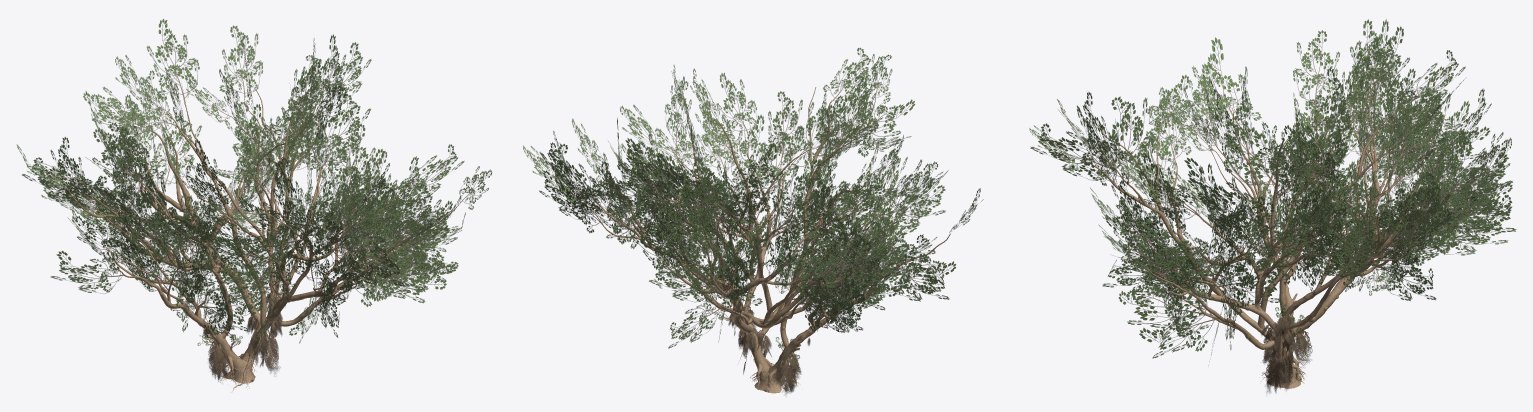
Rendered from tree.glb.
3 views of the same model, side by side, from view 1: azimuth 30°, elevation 25°; view 2: azimuth 150°, elevation 25°; view 3: azimuth 270°, elevation 25° (orthographic). The views are drawn at different scales.
Visible parts, largest first — view 1: Benjamin_S04; view 2: Benjamin_S04; view 3: Benjamin_S04.
Boxes of the visible parts, x1=… form: Benjamin_S04: x1=16, y1=19, x2=492, y2=391; Benjamin_S04: x1=523, y1=47, x2=983, y2=394; Benjamin_S04: x1=1029, y1=19, x2=1516, y2=392.
Size of the model in its own units: 0.8054 by 0.5995 by 0.8071.
Materials: 5 (5 with a texture image).
